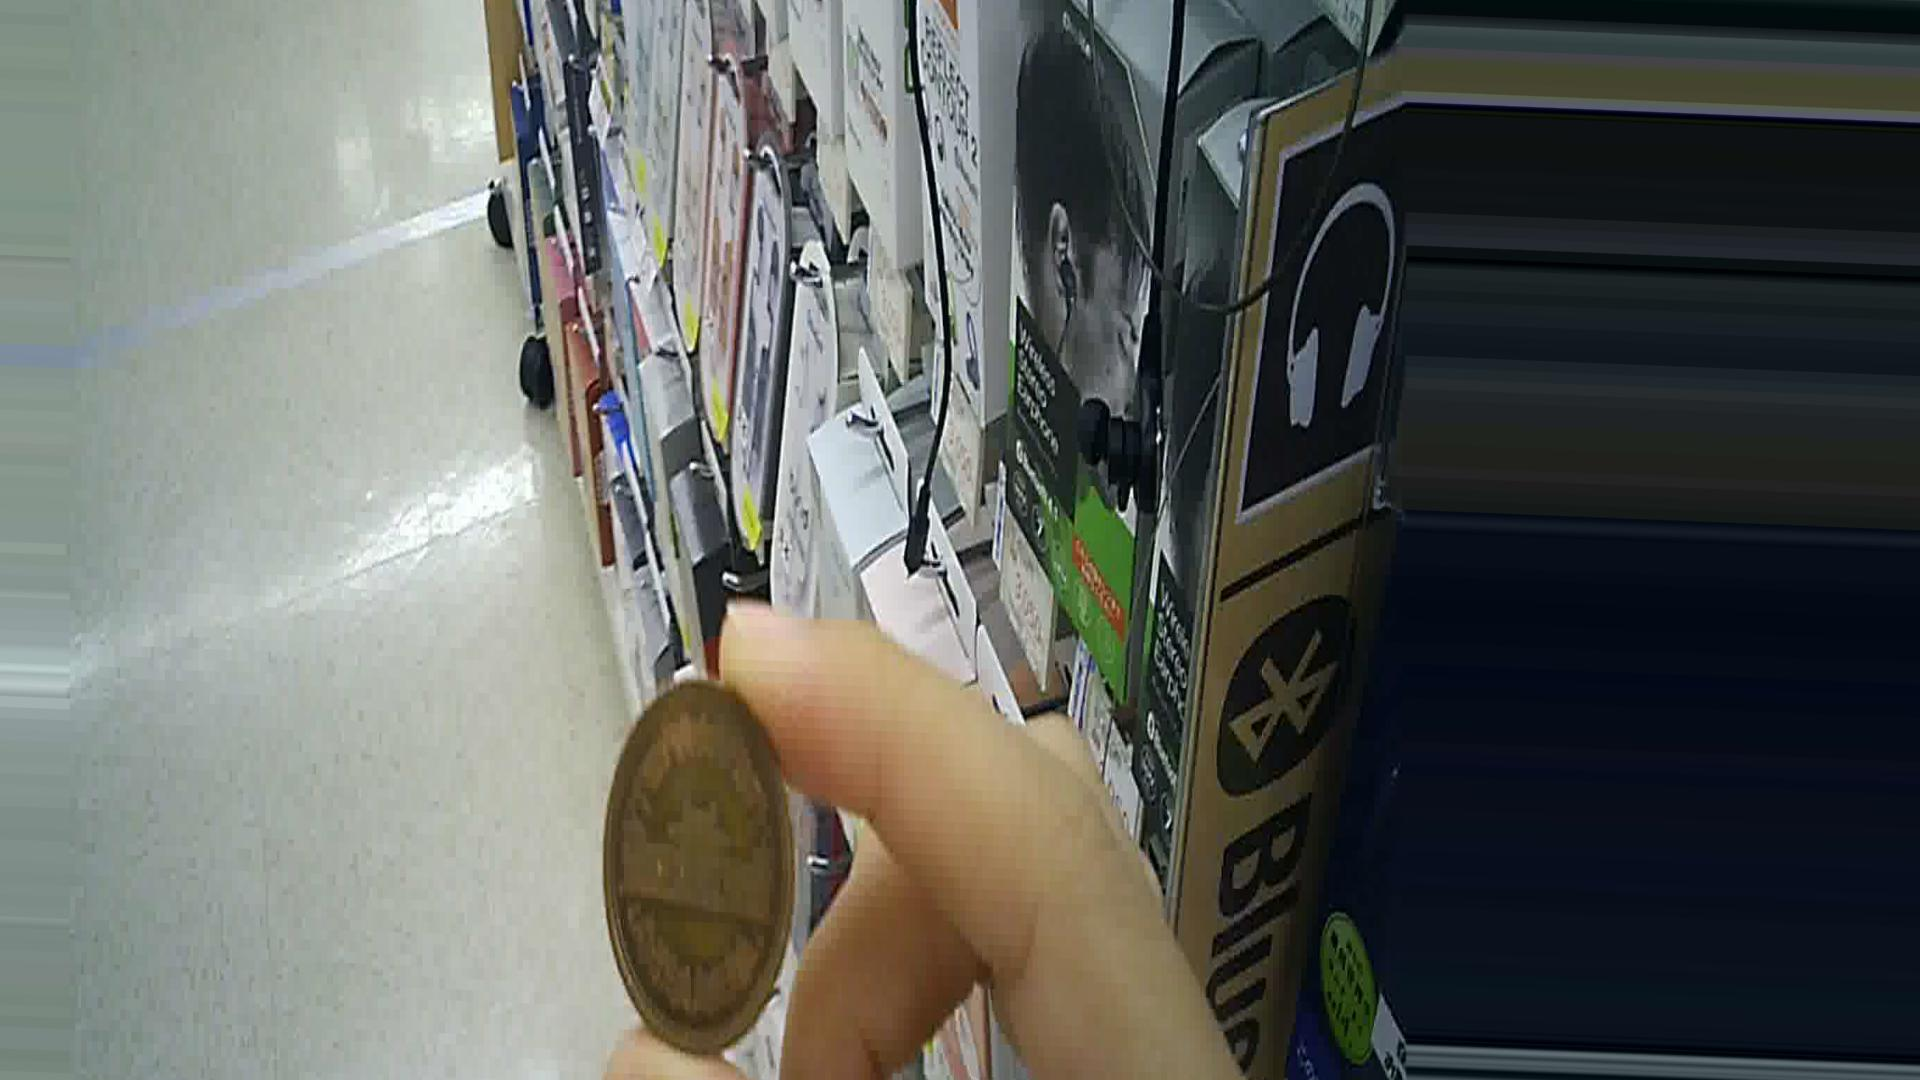10 Yen: (564, 671, 790, 1046)
